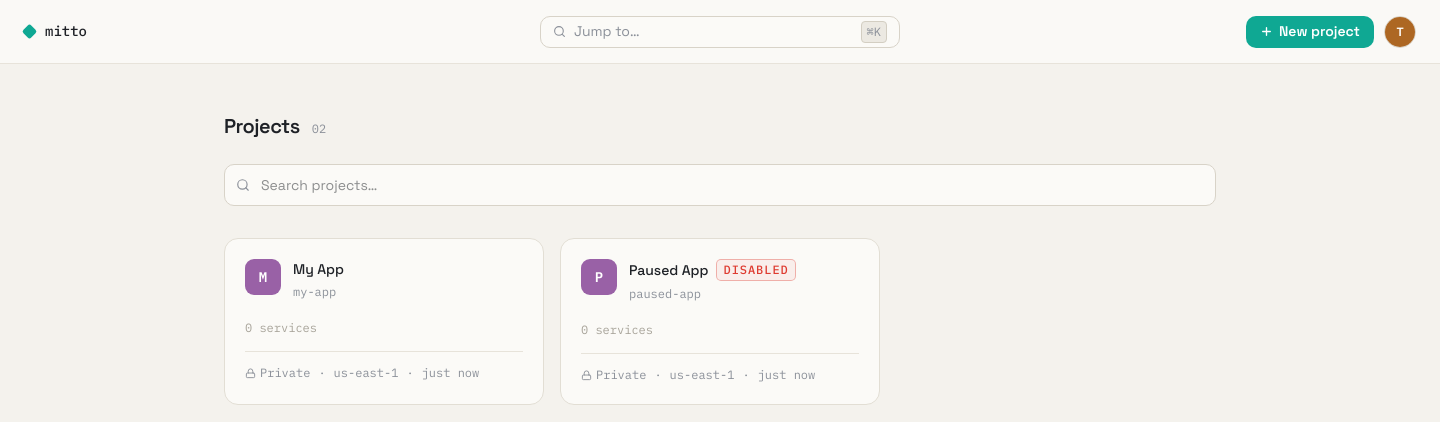
Test: ProjectsPage › filters projects by the search box
expect the text "My App" is shown: met, box [293,259,344,279]
Type "paused" into the field labelled "Search projects" at [720, 185], box [224,164,1216,206]
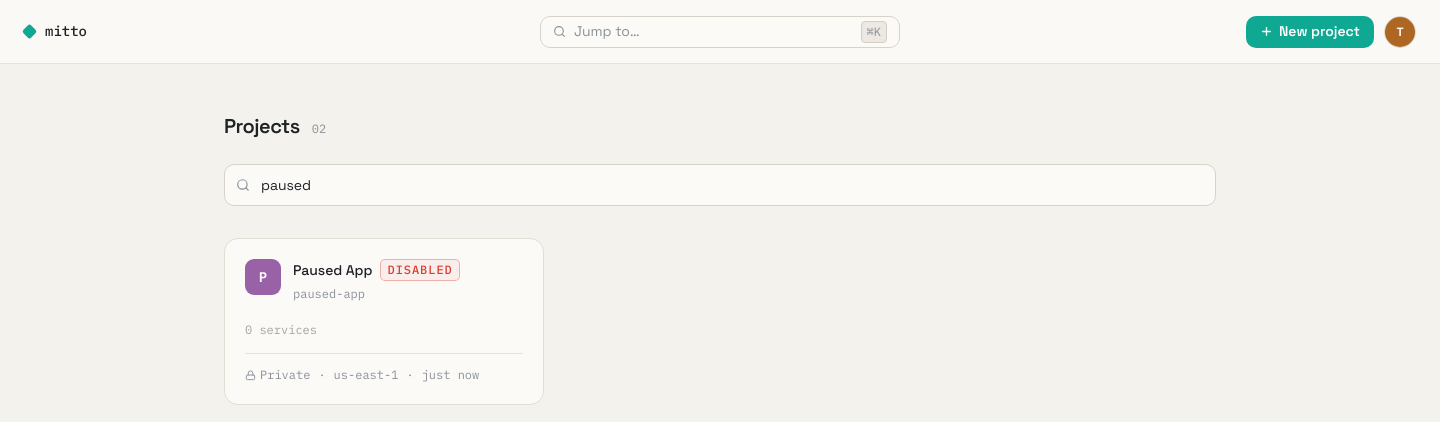
expect the text "Paused App" is shown: met, box [293,260,372,280]
expect the link "My App" is gone: met
